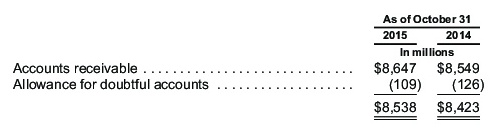table: (0, 0, 499, 129)
